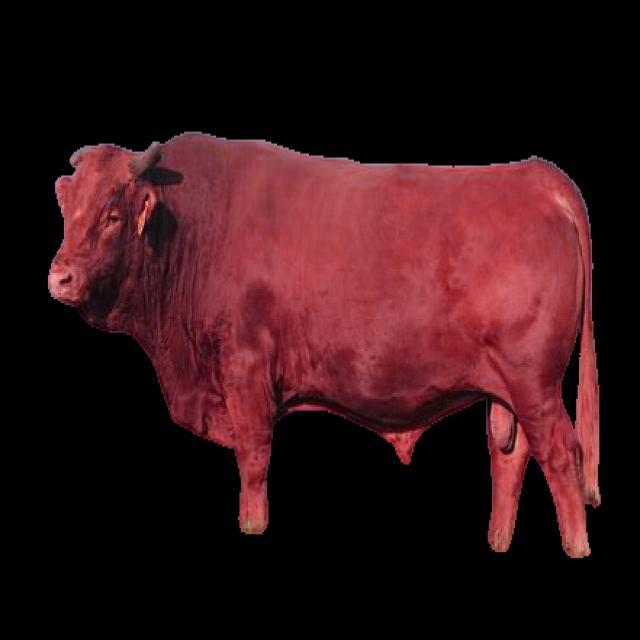cow: (50, 132, 600, 558)
